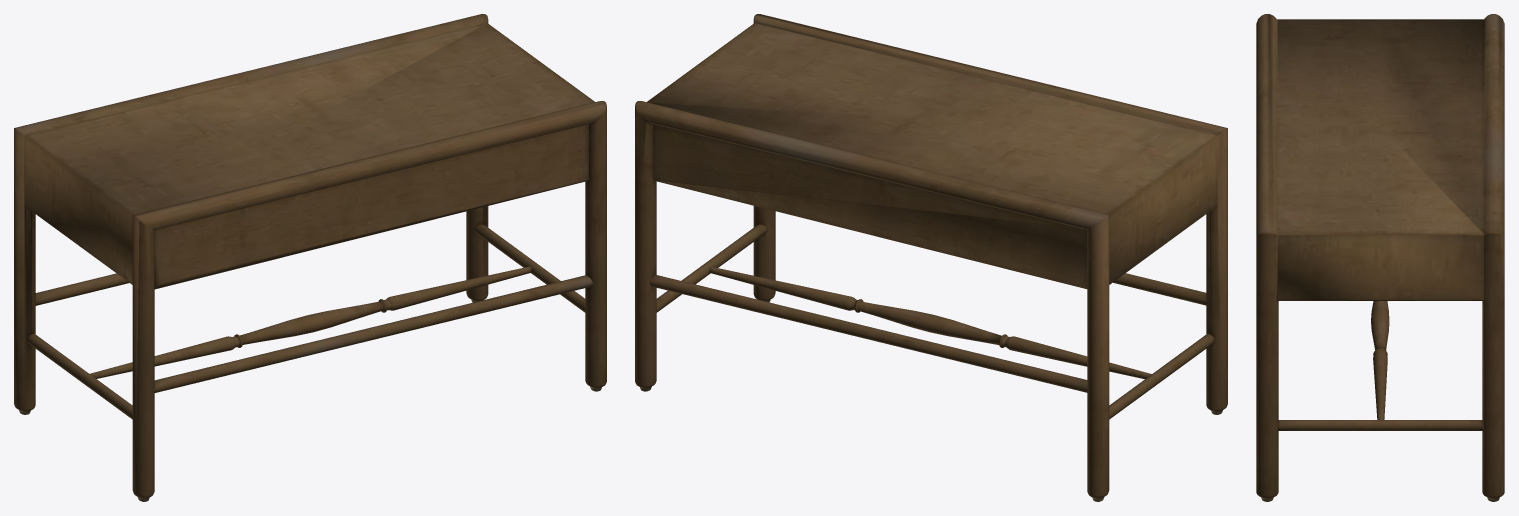
File: small_wooden_table_01.glb
3 renders of one model, left to right at view 1: azimuth 30°, elevation 25°; view 2: azimuth 150°, elevation 25°; view 3: azimuth 270°, elevation 25°, orthographic. The views are drawn at different scales.
Parts seen in each view (by area): view 1: small_wooden_table_01; view 2: small_wooden_table_01; view 3: small_wooden_table_01.
Part boxes in pixels (x1,y1,x2,y2): small_wooden_table_01: [14, 14, 606, 501]; small_wooden_table_01: [635, 14, 1227, 501]; small_wooden_table_01: [1256, 14, 1504, 501].
Size of the model in its own units: 0.9162 by 0.5331 by 0.4399.
Materials: 1 (1 with a texture image).
